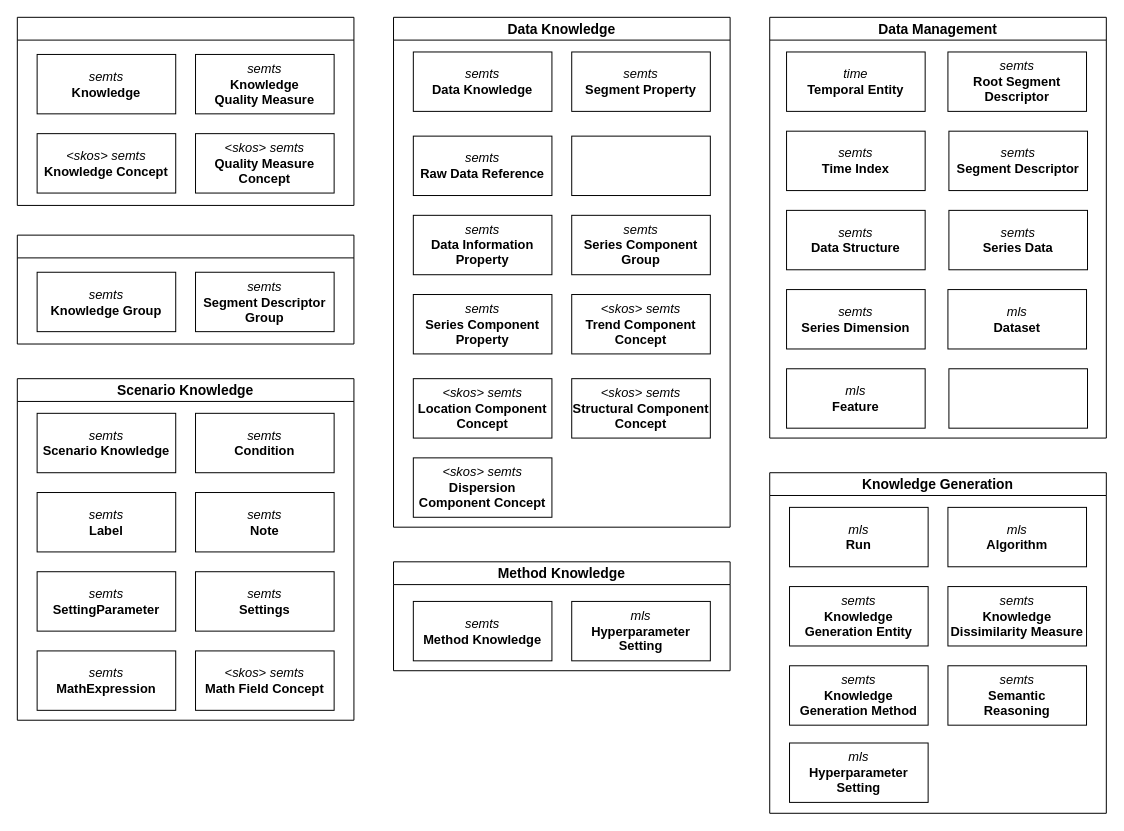
Image size: 1124x831. Some labels were removed from this diagram. The box of each missing label's shape, as (x1, y1, x2, y2) in pixels:
dcat Distribution: (948, 368, 1088, 428)
Ensembles: (16, 234, 354, 344)
Knowledge Definition: (16, 16, 354, 205)
semts Prediction Property: (571, 135, 710, 196)
